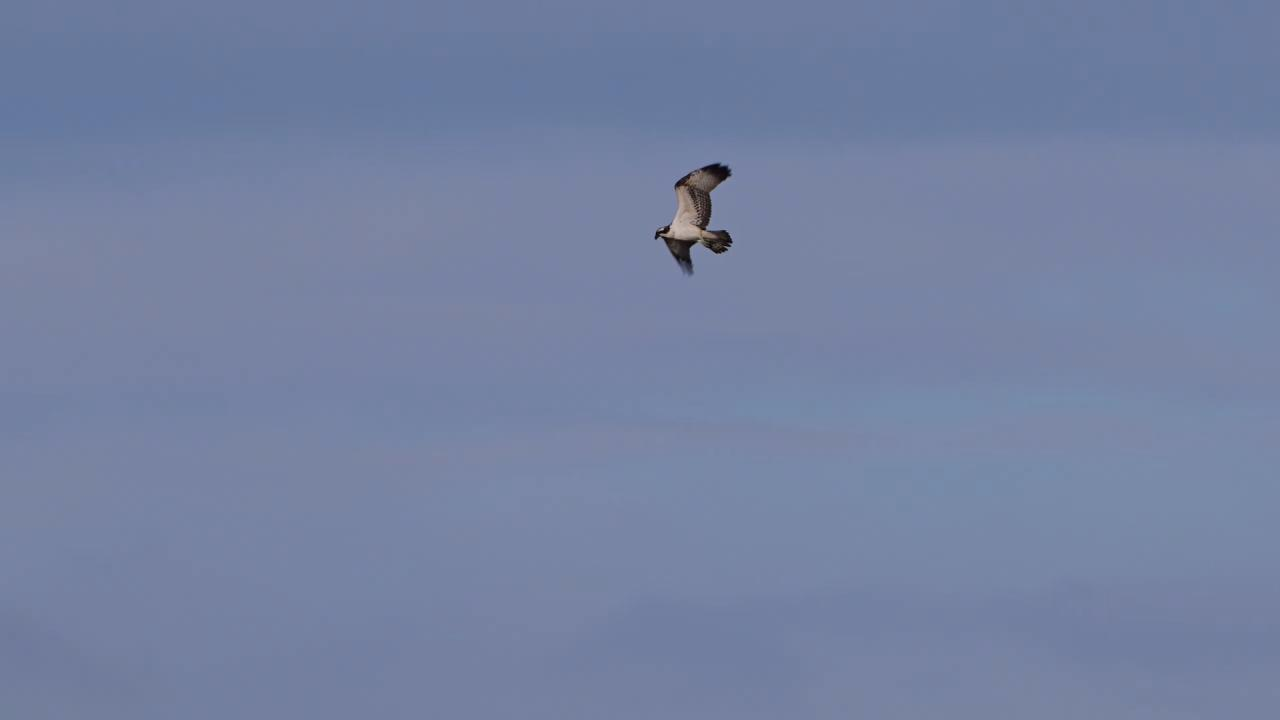Bird: (626, 150, 766, 293)
